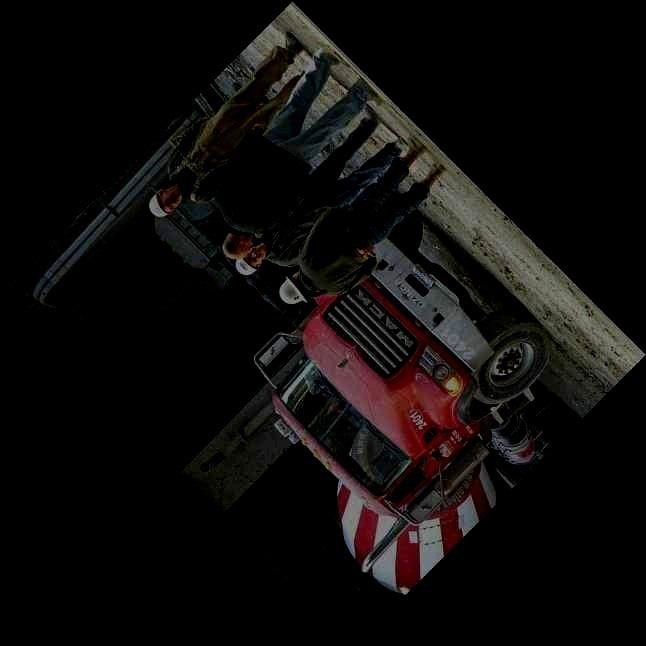helmet: (278, 270, 312, 305), (149, 185, 183, 218), (222, 229, 255, 260), (235, 246, 265, 276)
